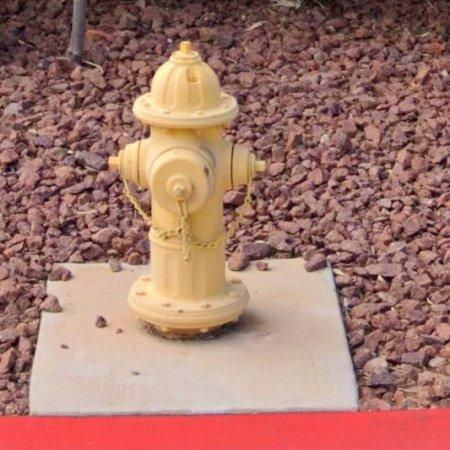a fire hydrant: (109, 41, 265, 334)
